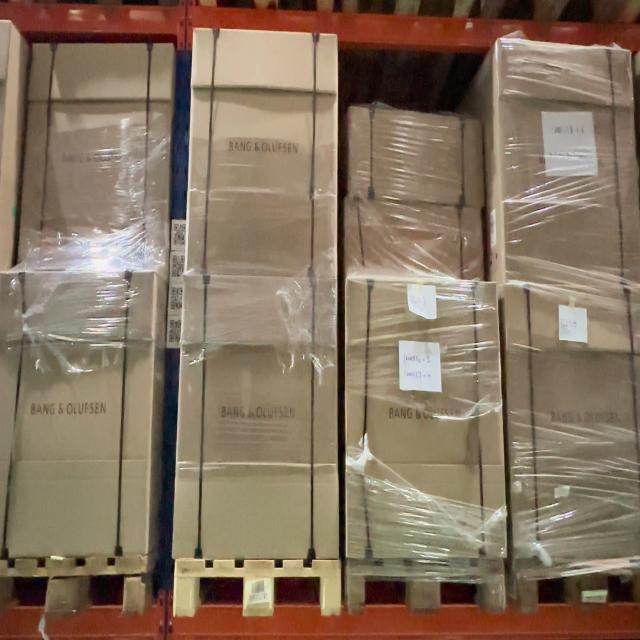box: (173, 271, 339, 553), (348, 280, 508, 559), (185, 28, 338, 278), (350, 112, 484, 209), (345, 203, 485, 283)
